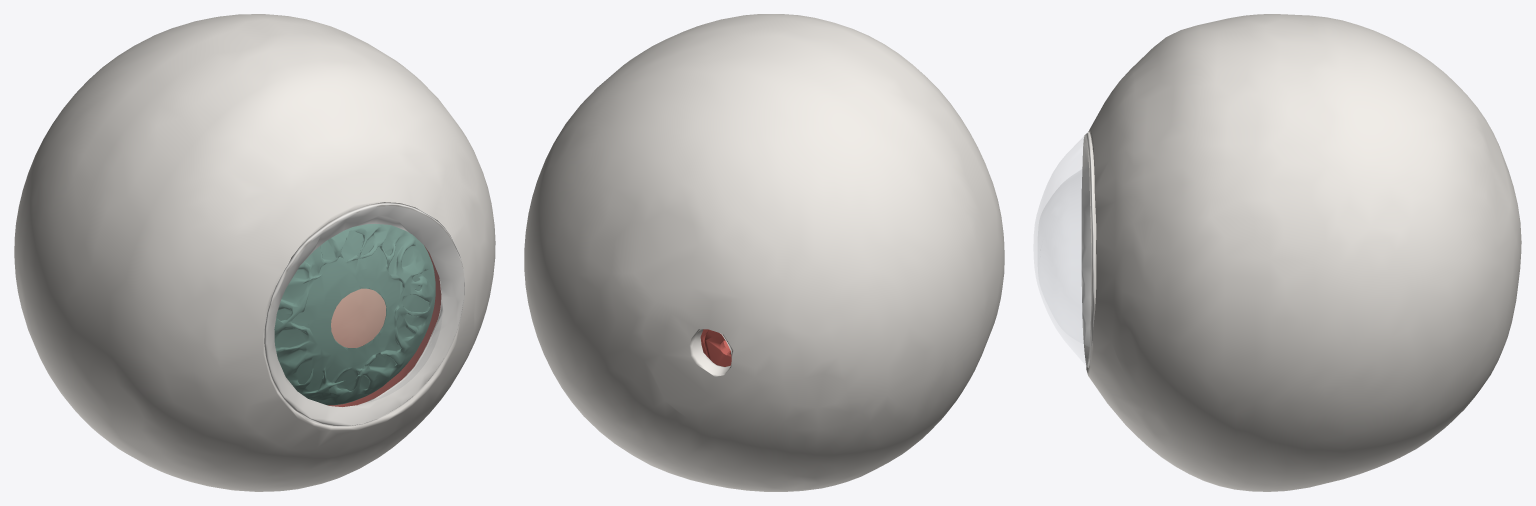
The model's file is eye.mo.glb.
The picture shows the model from 3 angles, left to right: view 1: azimuth 30°, elevation 25°; view 2: azimuth 150°, elevation 25°; view 3: azimuth 270°, elevation 25°; orthographic projection.
Visible parts, largest first — view 1: Sclera, Cornea, Iris, Retina, Lens; view 2: Sclera, Retina; view 3: Sclera, Cornea.
Boxes of the visible parts, bbox=[...] form: Sclera: bbox=[14, 14, 495, 491]; Cornea: bbox=[265, 203, 464, 426]; Iris: bbox=[274, 223, 435, 405]; Retina: bbox=[328, 245, 441, 406]; Lens: bbox=[331, 289, 385, 347]; Sclera: bbox=[524, 14, 1004, 491]; Retina: bbox=[700, 329, 731, 366]; Sclera: bbox=[1081, 14, 1521, 491]; Cornea: bbox=[1034, 133, 1093, 366].
Size of the model in its own units: 1.95 by 1.95 by 2.
